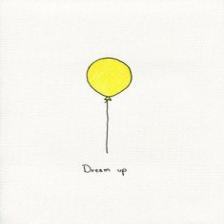yellow: (88, 58, 132, 97)
